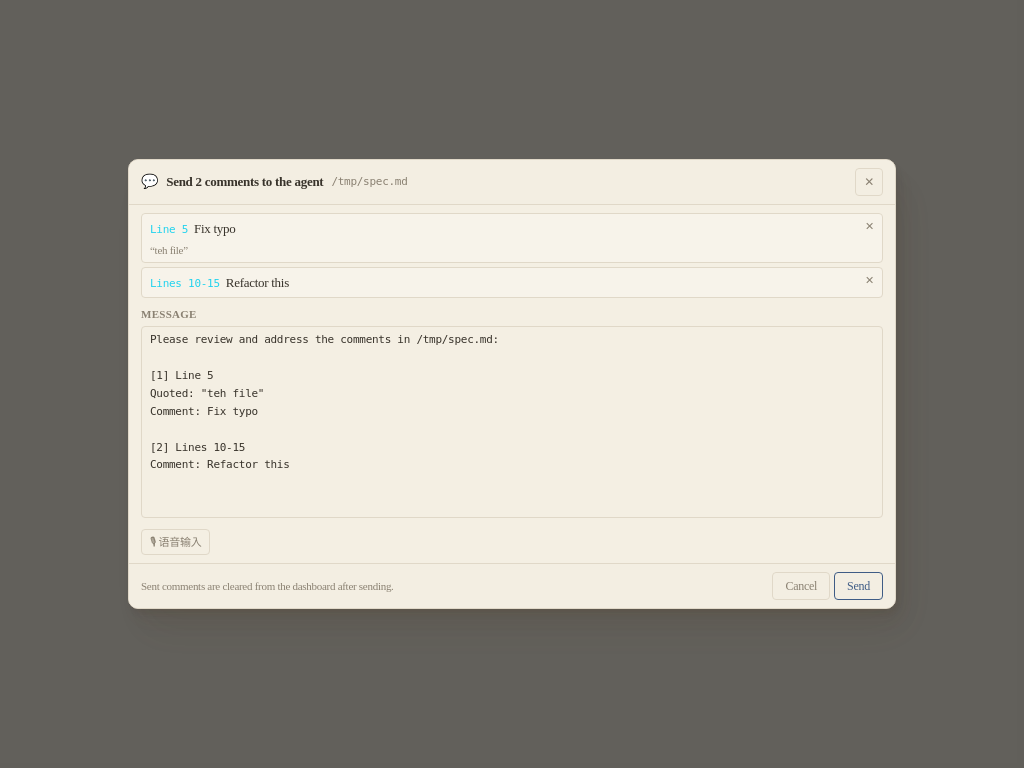
Scenario: ReviewCommentsDialog › disables Send when every comment was removed
Click the button named "remove comment on line 5".
click(870, 226)  # box [865,218,874,234]
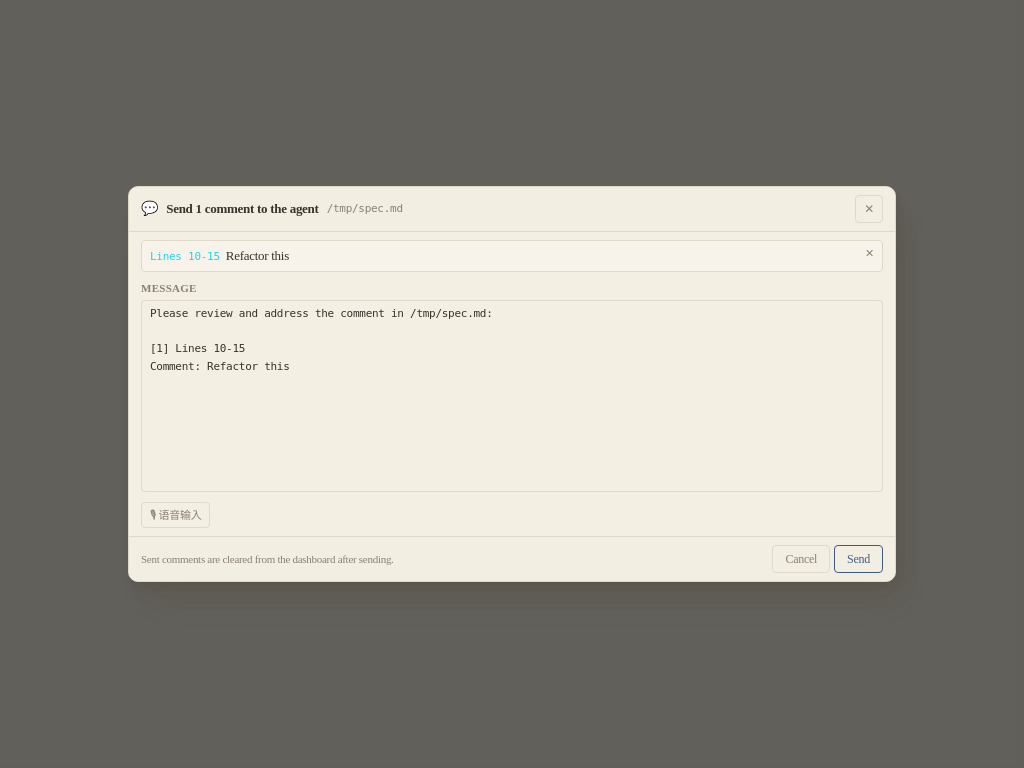
Click the button named "remove comment on lines 10-15".
click(870, 253)  # box [865,245,874,261]
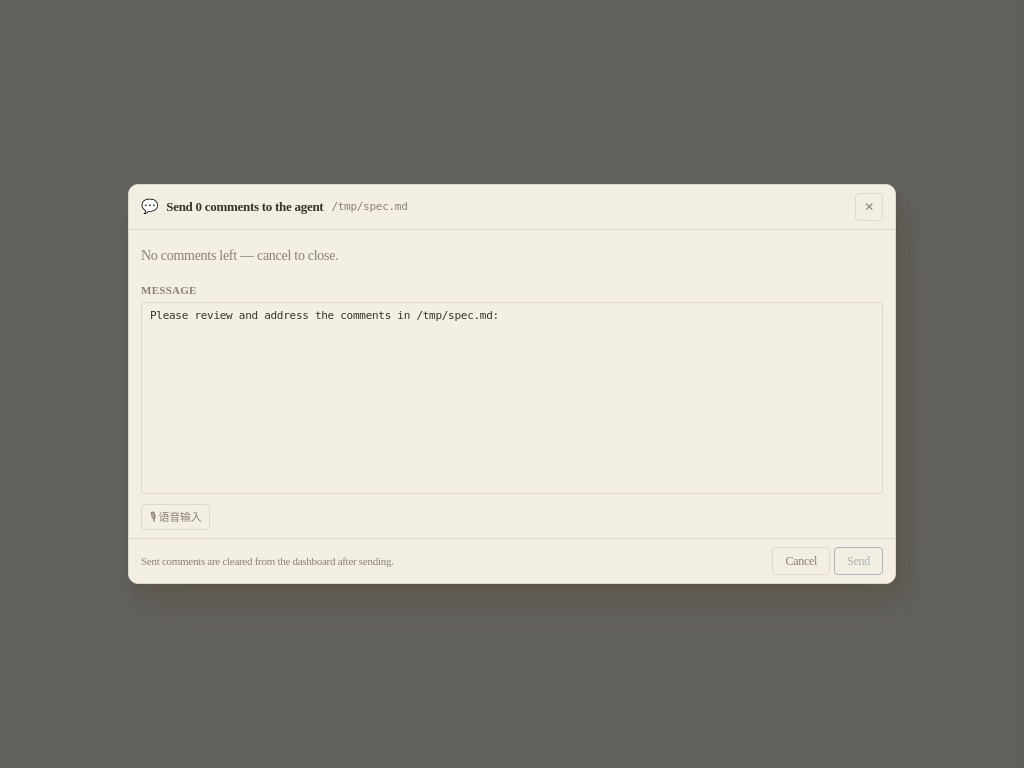
Result: the button "Send" is disabled at [834,547,883,575]
